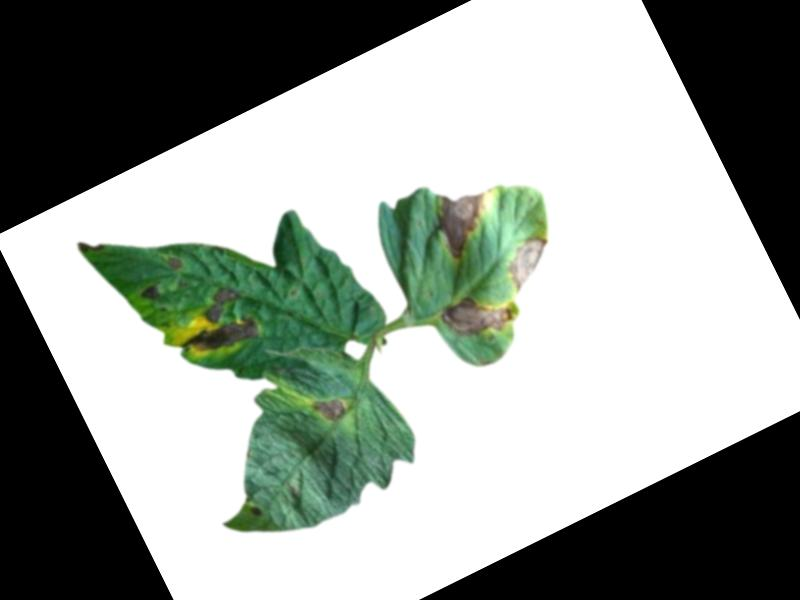Early_blight: (164, 277, 266, 369), (425, 178, 504, 261), (436, 277, 516, 350), (498, 227, 566, 294), (311, 389, 351, 427), (138, 281, 162, 304), (165, 252, 184, 271), (247, 500, 265, 520)
